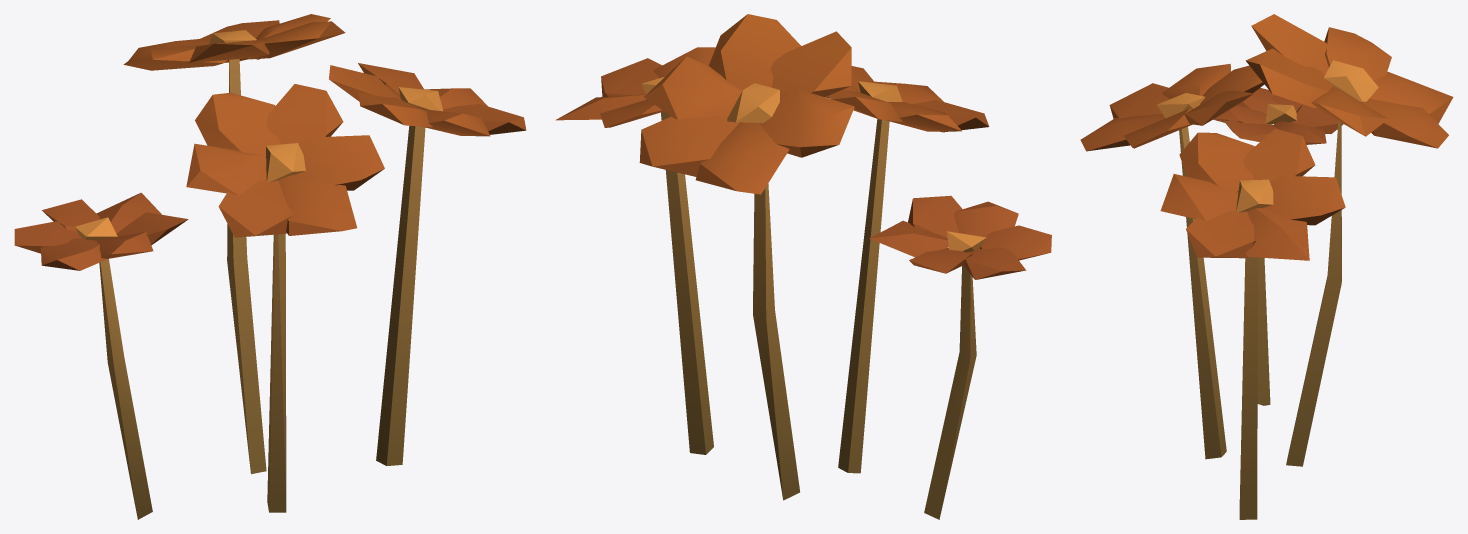
Rendered from Autumn_Flower_08.glb.
3 renders of one model, left to right at view 1: azimuth 30°, elevation 25°; view 2: azimuth 150°, elevation 25°; view 3: azimuth 270°, elevation 25°, orthographic. The views are drawn at different scales.
Visible parts, largest first — view 1: Autumn_Flower_08_LOD0; view 2: Autumn_Flower_08_LOD0; view 3: Autumn_Flower_08_LOD0.
Part boxes in pixels (x1=…): Autumn_Flower_08_LOD0: x1=14, y1=14, x2=526, y2=519; Autumn_Flower_08_LOD0: x1=555, y1=14, x2=1051, y2=519; Autumn_Flower_08_LOD0: x1=1080, y1=14, x2=1453, y2=519.
Size of what is drawn, in the model's own units: 0.3158 by 0.2938 by 0.2308.
1 material, 1 textured.
